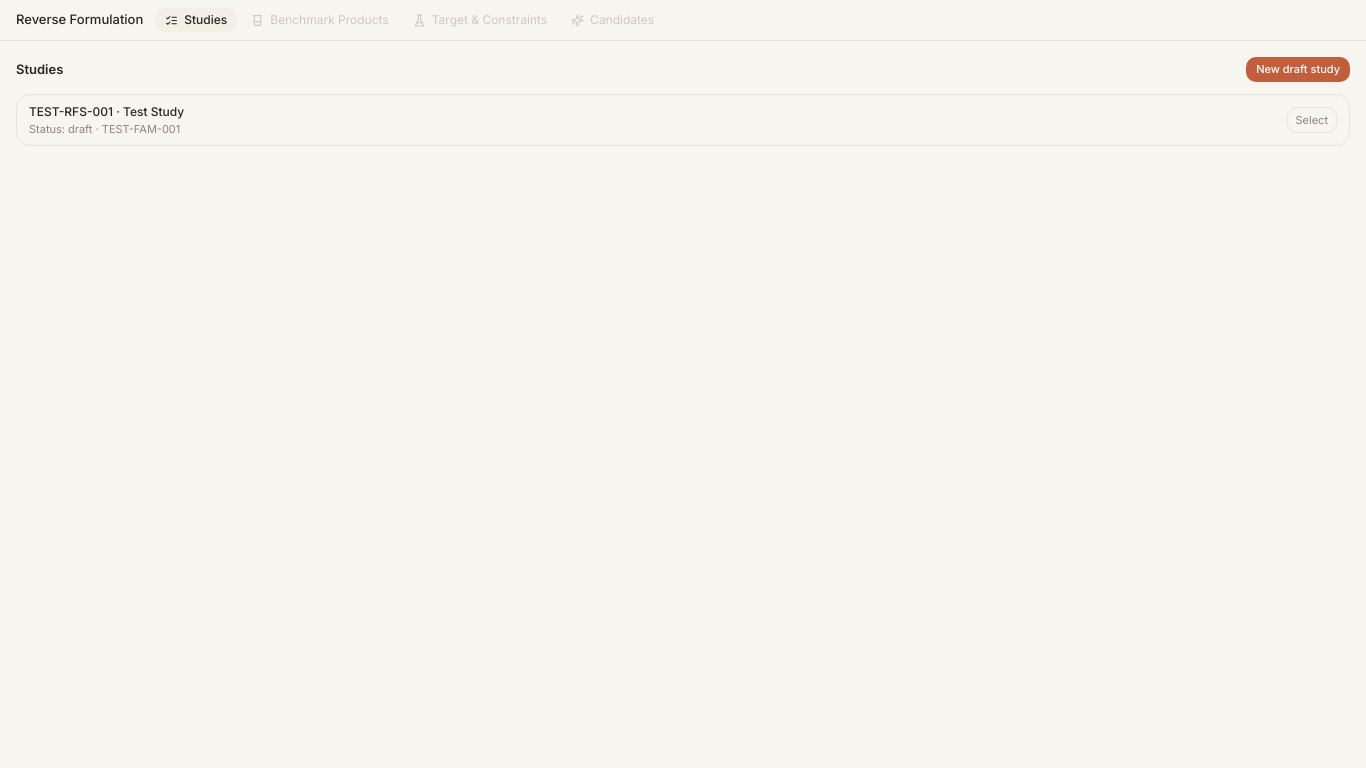
Scenario: ReverseFormulationPage — candidate generation and scoring (real shared engine) › generates a real candidate via the shared engine, not a fabricated one
What coordinates should you click on to do the following:
click the button "Select"
I would click on:
 (1312, 120)
Its box is [1287,106,1337,133].
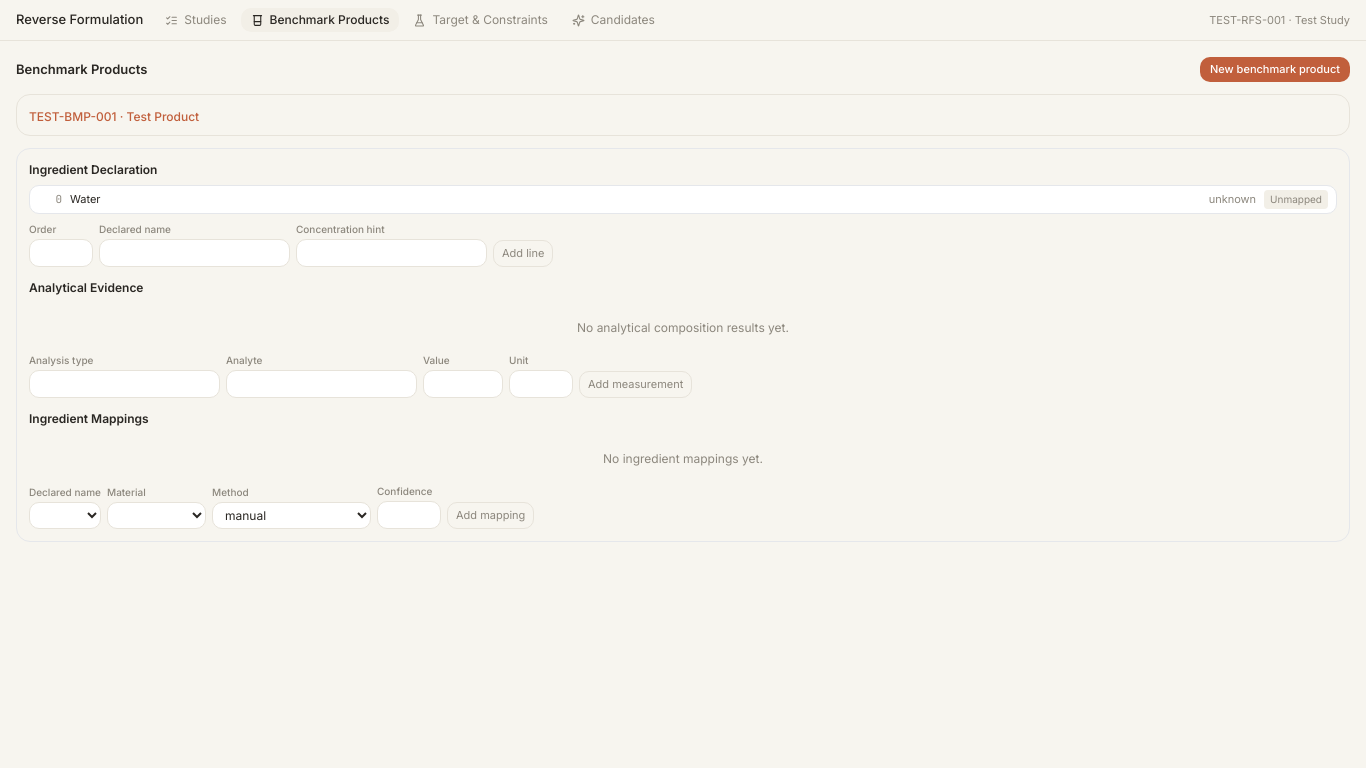
What coordinates should you click on to do the following:
click the button "Candidates"
I would click on:
 (613, 20)
Its box is [562,8,665,32].
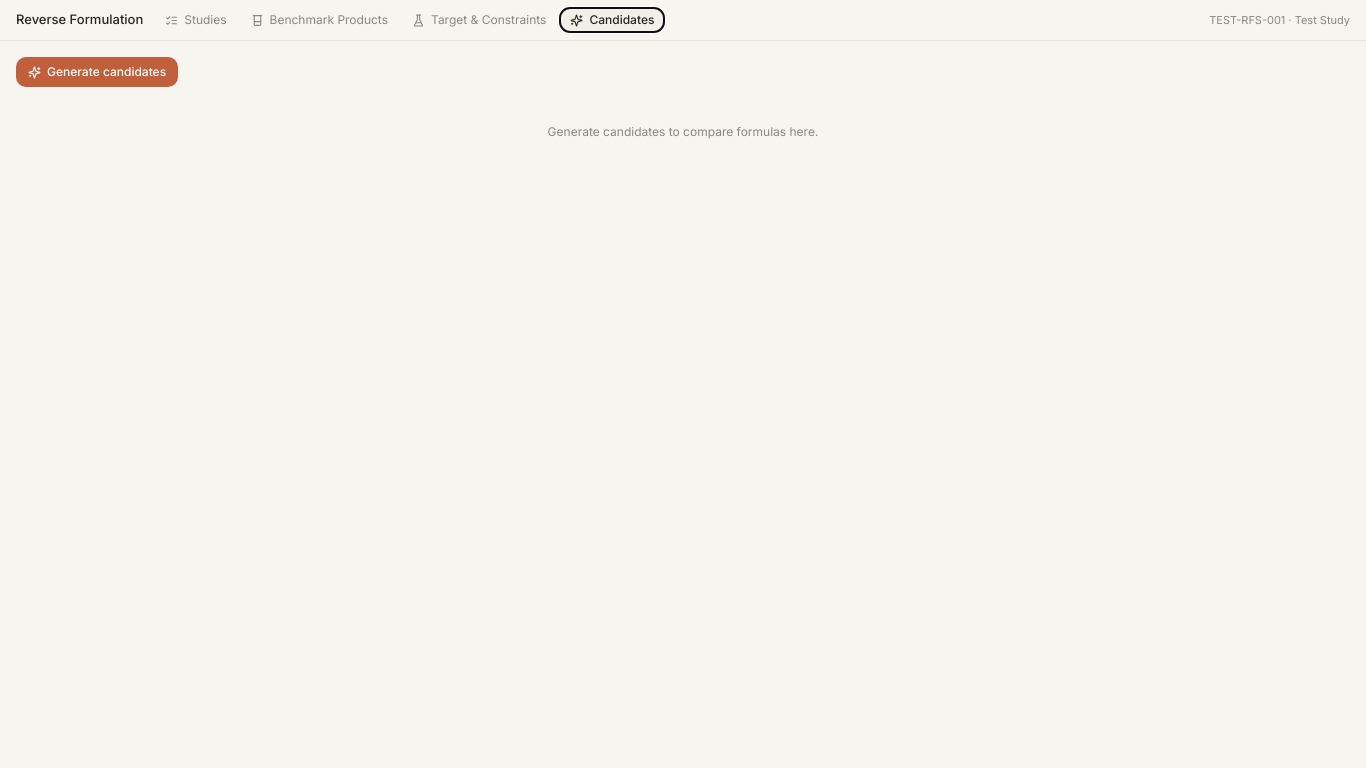
What coordinates should you click on to do the following:
click the button "Generate candidates"
I would click on:
 (97, 72)
Its box is [16,57,178,87].
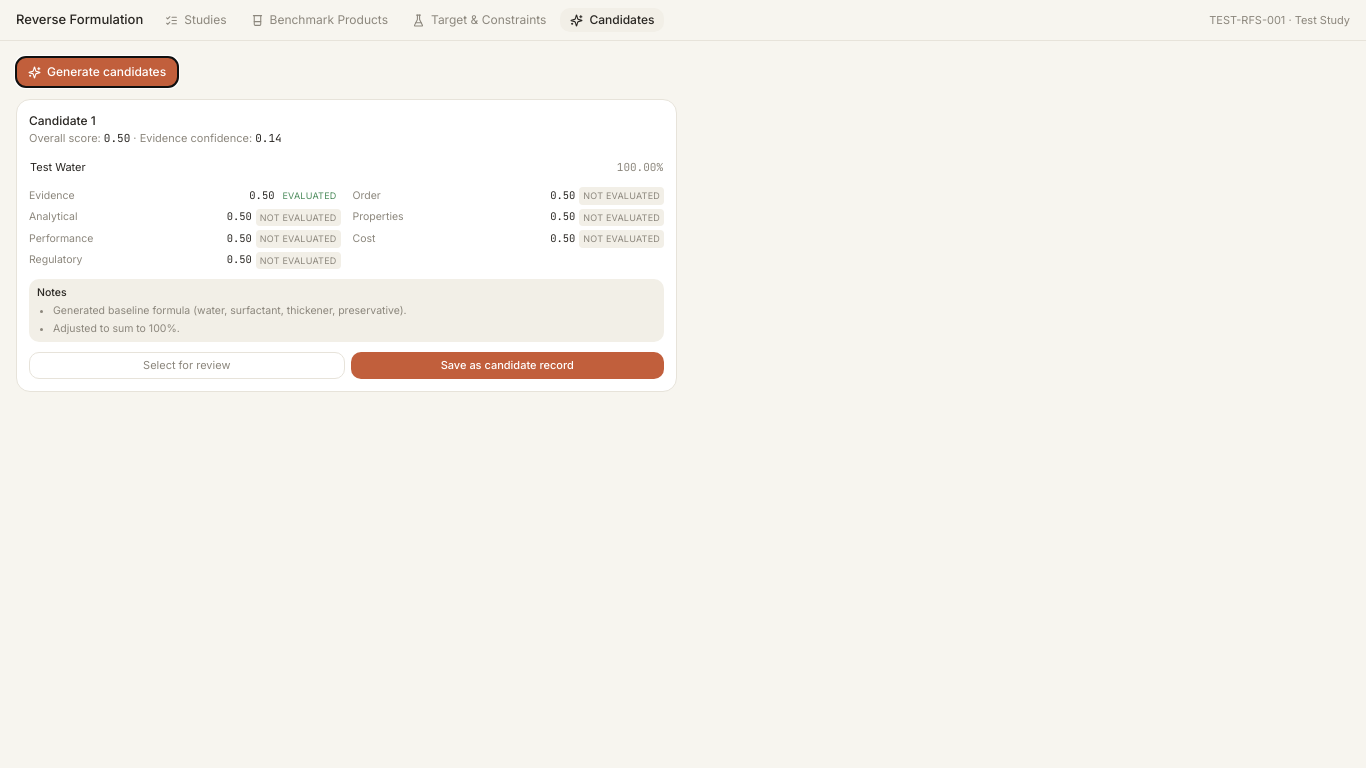
Check: the text "Test Water" is shown, box [29,156,393,177]
Check: the text "100.00%" is shown, box [393,156,664,177]
